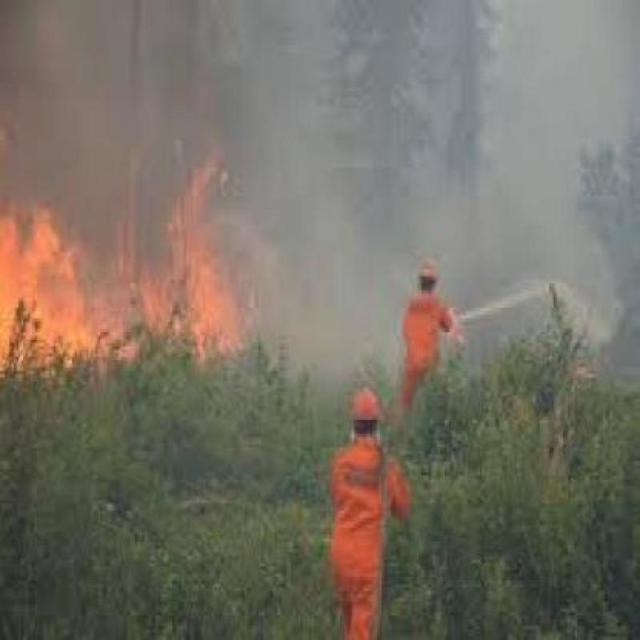Fire: (0, 234, 292, 398)
Smoke: (0, 0, 246, 146)
